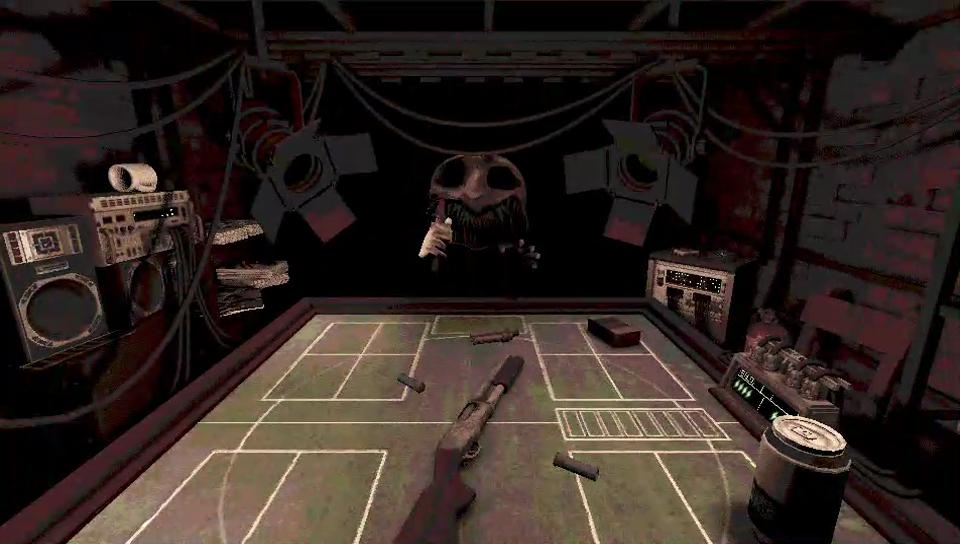ally: (21, 422, 916, 543)
can: (748, 402, 851, 543)
cigar: (586, 315, 645, 348)
emptyspace: (127, 452, 301, 543), (241, 451, 386, 543), (573, 452, 710, 543), (261, 352, 363, 400), (599, 356, 695, 400), (539, 354, 625, 400), (334, 356, 419, 401), (304, 322, 382, 355), (528, 324, 597, 357), (363, 324, 427, 355)
enemyspace: (201, 312, 762, 423)
gun: (392, 355, 524, 543)
